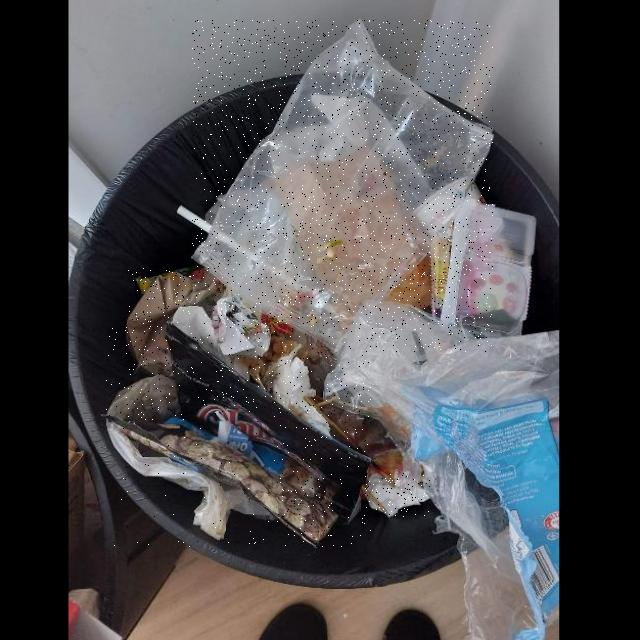paper: (126, 269, 225, 377), (261, 346, 332, 440), (212, 296, 271, 358), (172, 307, 226, 364), (365, 473, 430, 518), (391, 254, 430, 309)
plastic: (193, 20, 493, 352), (106, 421, 277, 541)
wrapper: (107, 325, 372, 547)
